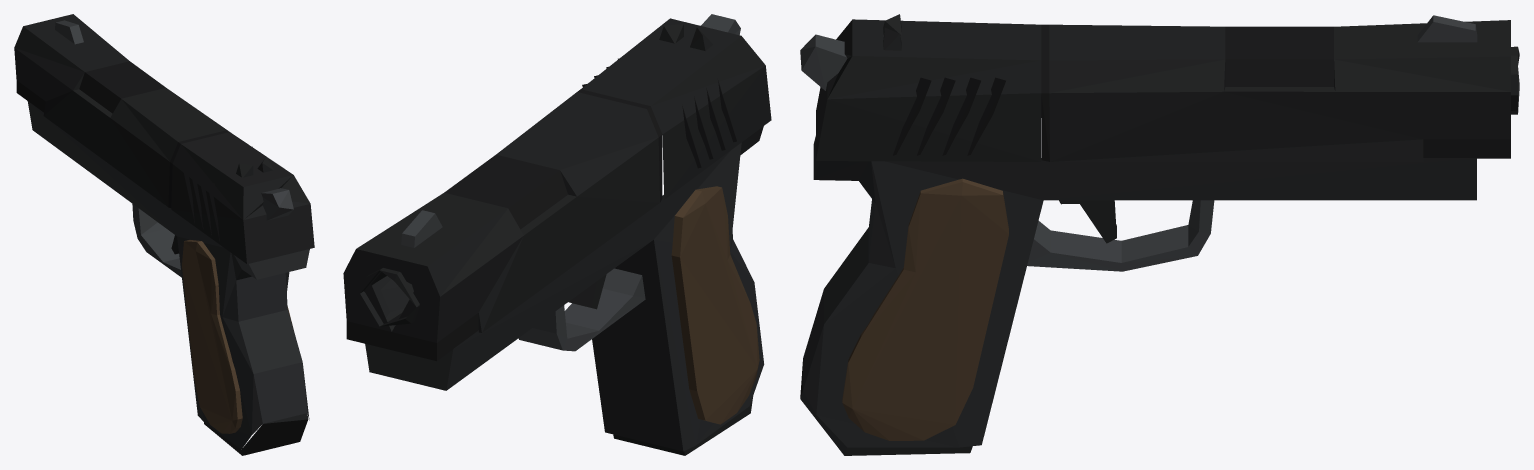
The model's file is gun_pistol.glb.
3 views of the same model, side by side, from view 1: azimuth 30°, elevation 25°; view 2: azimuth 150°, elevation 25°; view 3: azimuth 270°, elevation 25° (orthographic). The views are drawn at different scales.
Visible parts, largest first — view 1: lod0; view 2: lod0; view 3: lod0.
Part boxes in pixels (x1,y1,x2,y2): lod0: (14, 14, 314, 455); lod0: (343, 14, 771, 455); lod0: (800, 14, 1519, 455).
Bounding box in the file's own units: 0.0384 × 0.1405 × 0.22.
